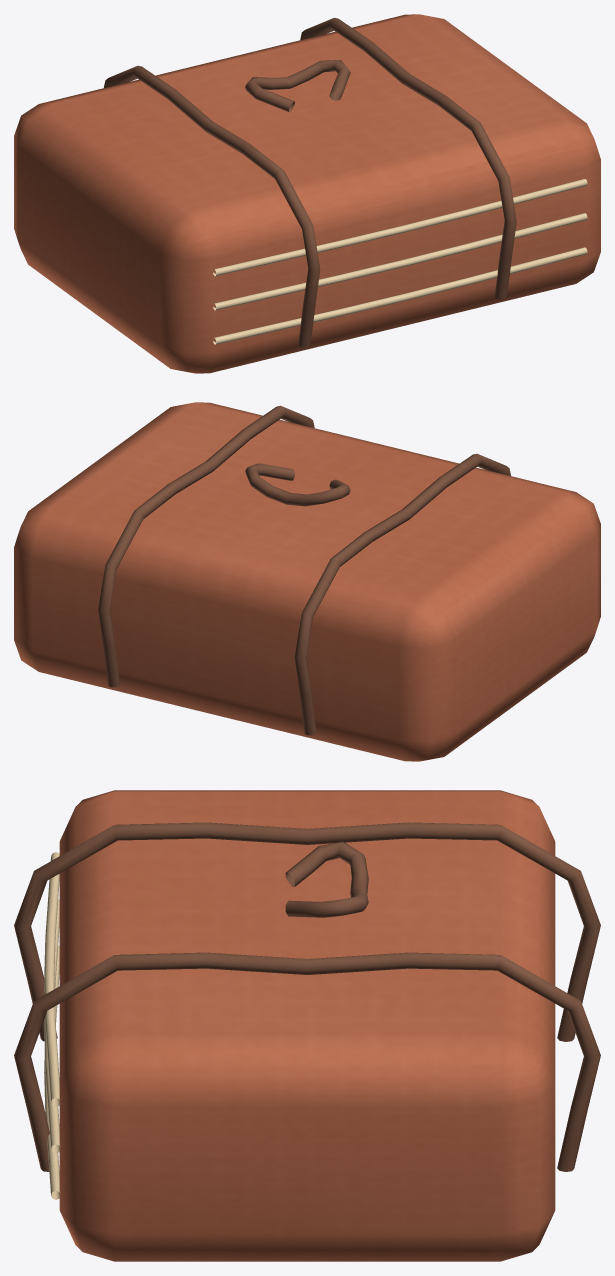
Rendered from 21-stoffpaket-rot.glb.
The picture shows the model from 3 angles, top to bottom: view 1: azimuth 30°, elevation 25°; view 2: azimuth 150°, elevation 25°; view 3: azimuth 270°, elevation 25°; orthographic projection. The views are drawn at different scales.
Visible parts, largest first — view 1: Folded textile, Parcel cord.001, Parcel cord, Fold layers.002, Fold layers, Fold layers.001, Simple knot; view 2: Folded textile, Parcel cord.001, Parcel cord, Simple knot; view 3: Folded textile, Parcel cord.001, Parcel cord, Simple knot, Fold layers.002, Fold layers.001, Fold layers.
Boxes of the visible parts, <box> form: Folded textile: <box>14,14,600,373</box>; Parcel cord.001: <box>300,17,516,299</box>; Parcel cord: <box>104,65,320,347</box>; Fold layers.002: <box>213,179,587,276</box>; Fold layers: <box>213,247,587,344</box>; Fold layers.001: <box>213,213,587,310</box>; Simple knot: <box>245,60,350,111</box>; Folded textile: <box>14,402,600,761</box>; Parcel cord.001: <box>98,405,314,687</box>; Parcel cord: <box>294,453,510,735</box>; Simple knot: <box>245,463,350,506</box>; Folded textile: <box>59,790,555,1261</box>; Parcel cord.001: <box>14,952,600,1171</box>; Parcel cord: <box>14,822,600,1041</box>; Simple knot: <box>285,841,368,917</box>; Fold layers.002: <box>44,852,60,1106</box>; Fold layers.001: <box>44,899,60,1153</box>; Fold layers: <box>44,946,60,1199</box>.
Size of the model in its own units: 0.4 by 0.1725 by 0.3433.
3 materials, 3 textured.
